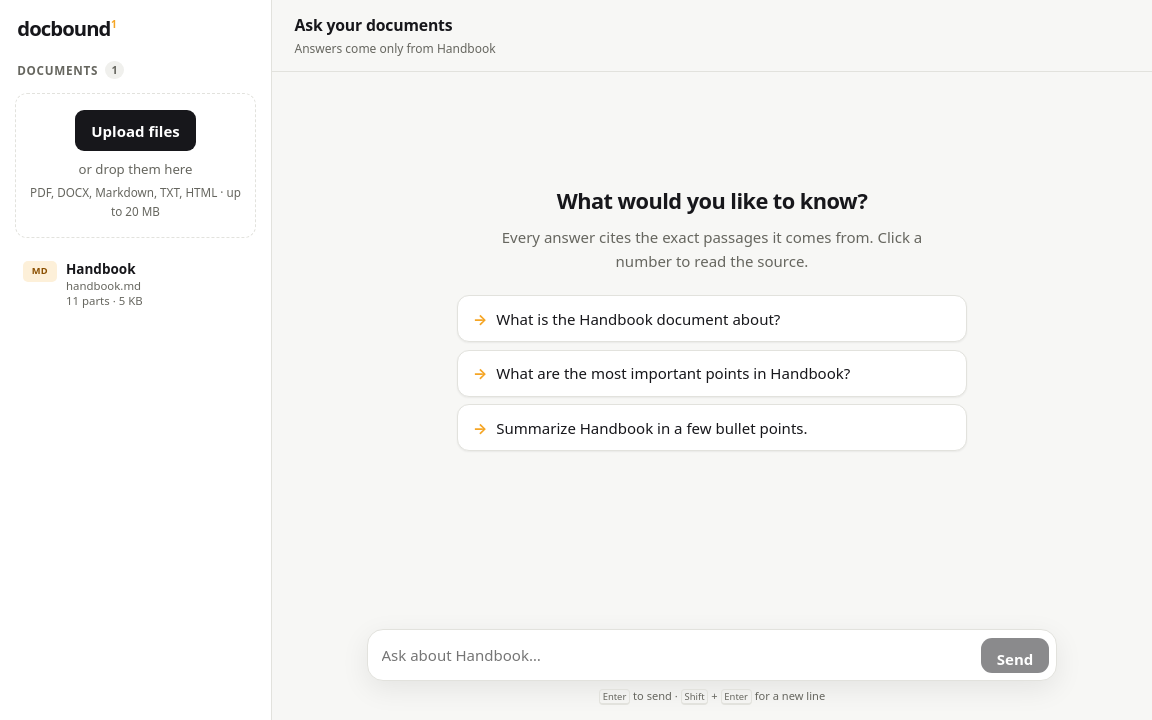
Test: App › suggests questions about the uploaded documents and asks one when clicked
Click the button "What is the Handbook document about?" at (712, 319), box [457,295,967,342]
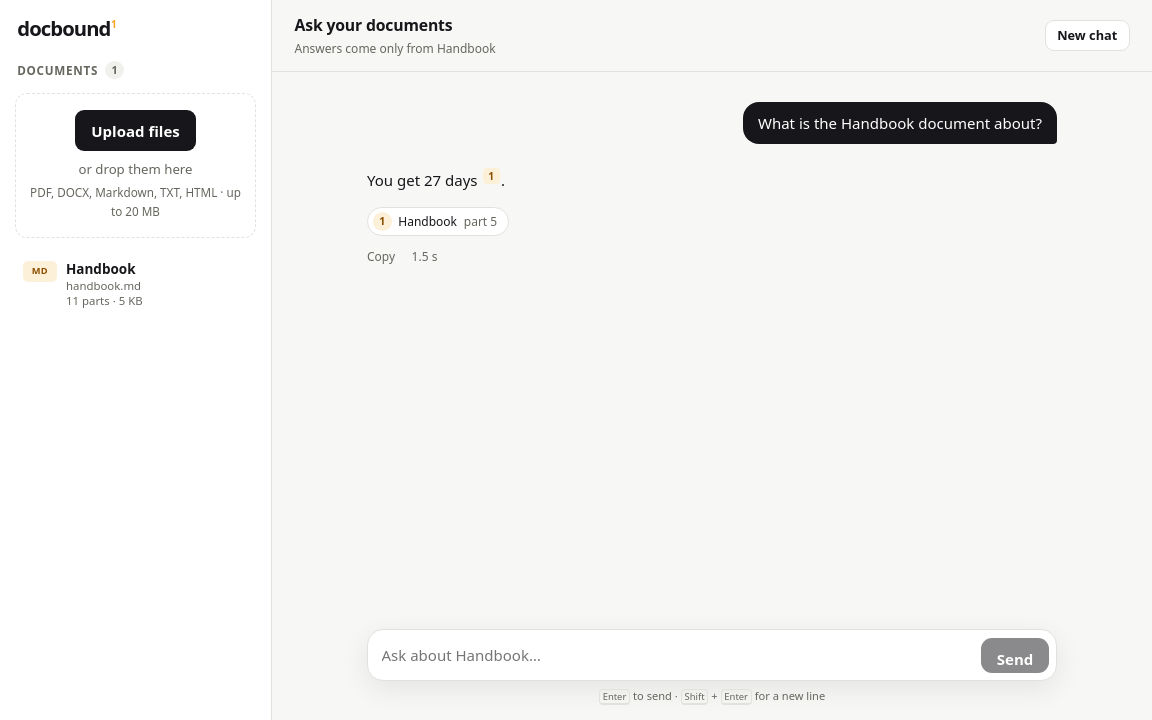
Expected: the text "What is the Handbook document about?" is shown, [743,102,1057,144]
Expected: the text "You get 27 days" is shown, [367,170,481,190]
